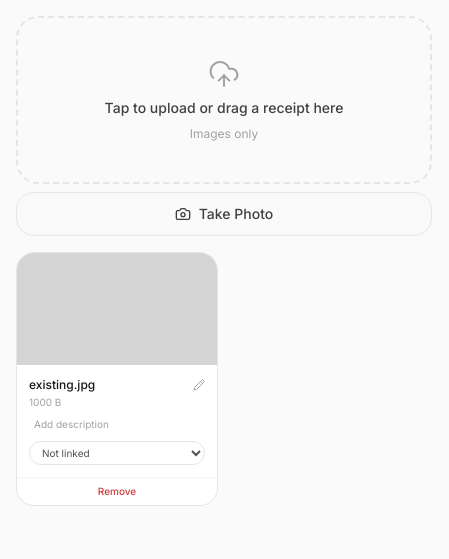
Test case: ReceiptsPage › reverts the name and shows an error when rename fails
The width and height of the screenshot is (449, 559).
Expected: the element with test id "receipt-card" is shown, x1=16 y1=252 x2=218 y2=506
Click the button with test id "receipt-rename-button".
click(199, 385)  # box x1=193 y1=379 x2=205 y2=391
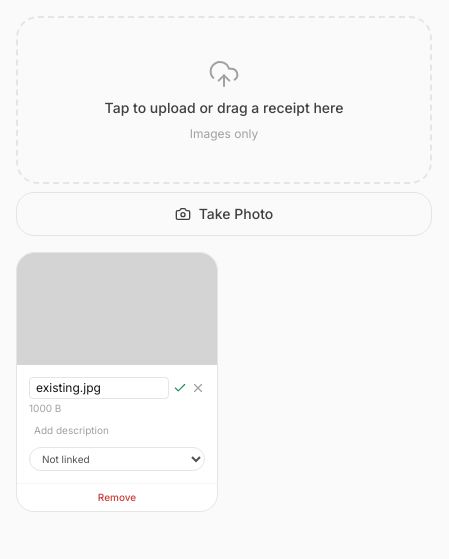
Replace the text in the field with test id "receipt-name-input" with "renamed.jpg" at x=99, y=388, box x1=29 y1=377 x2=169 y2=399
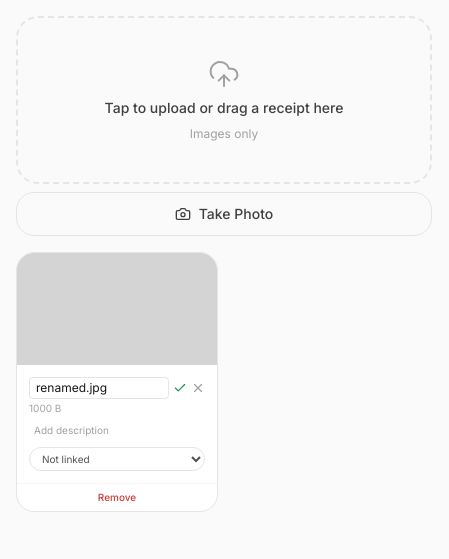
Click the button with test id "receipt-name-save".
click(180, 388)  # box x1=173 y1=381 x2=187 y2=395
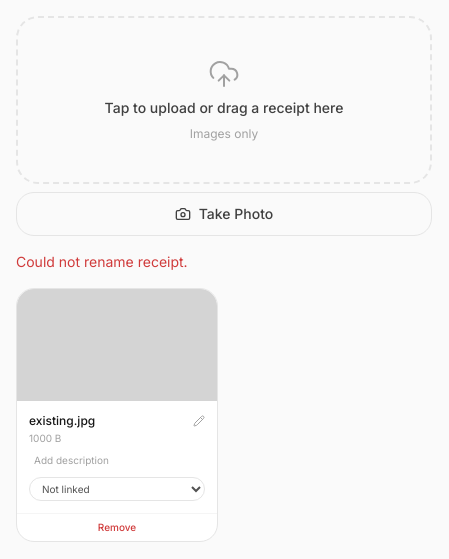
Expected: the text with test id "receipts-error" reads "Could not rename receipt.", x1=16 y1=253 x2=188 y2=270
Expected: the element with test id "receipt-card" shows "existing.jpg", x1=29 y1=413 x2=95 y2=428
